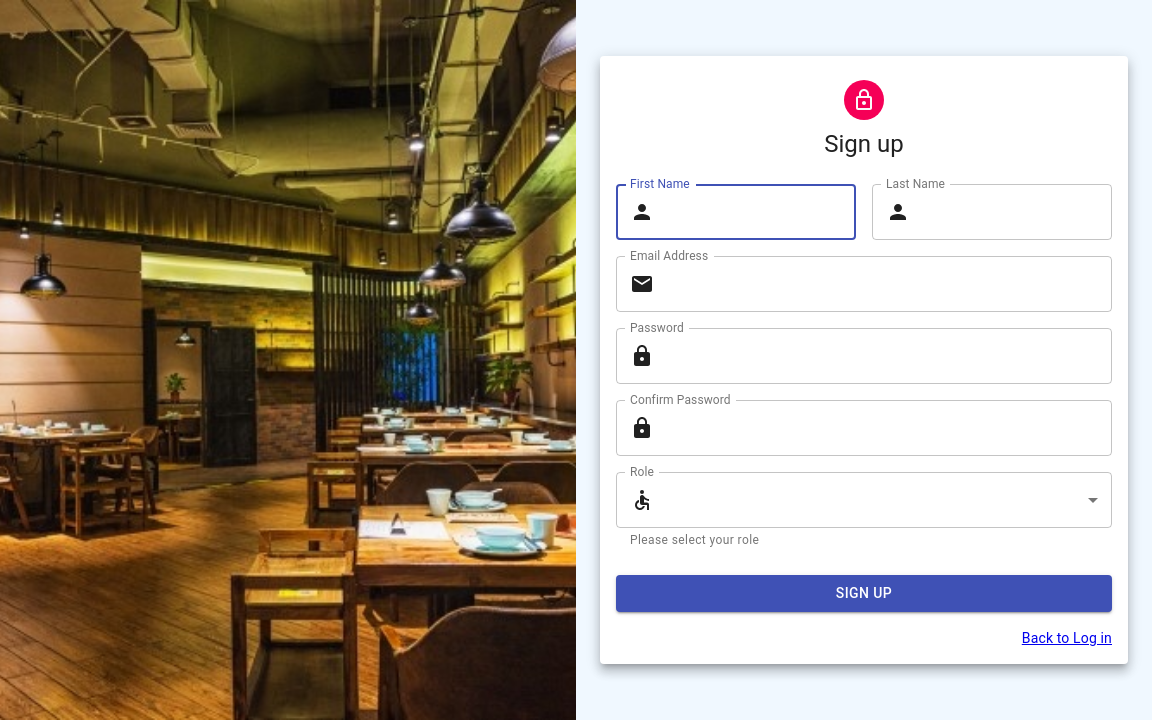
it: When a new user signup › should require input fields
In the field named "email": (887, 284) top-left (662, 256), bottom-right (1112, 312), type "new@test.com"
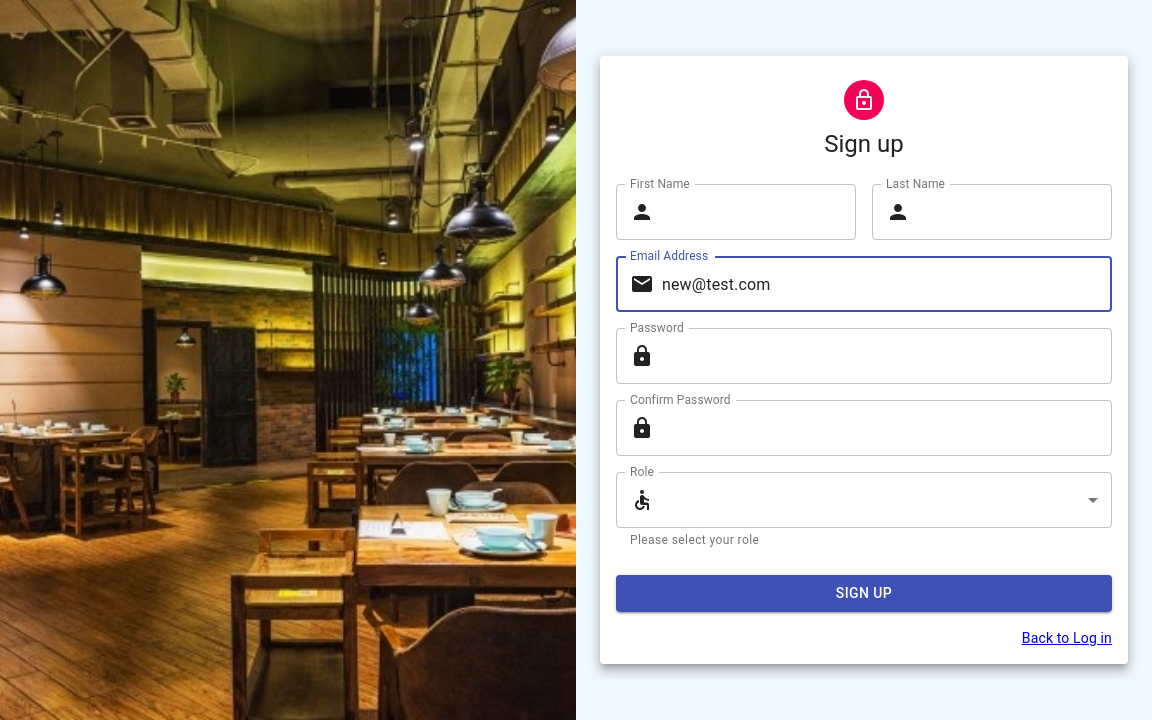
In the password field named "password": (887, 356) top-left (662, 328), bottom-right (1112, 384), type "password"
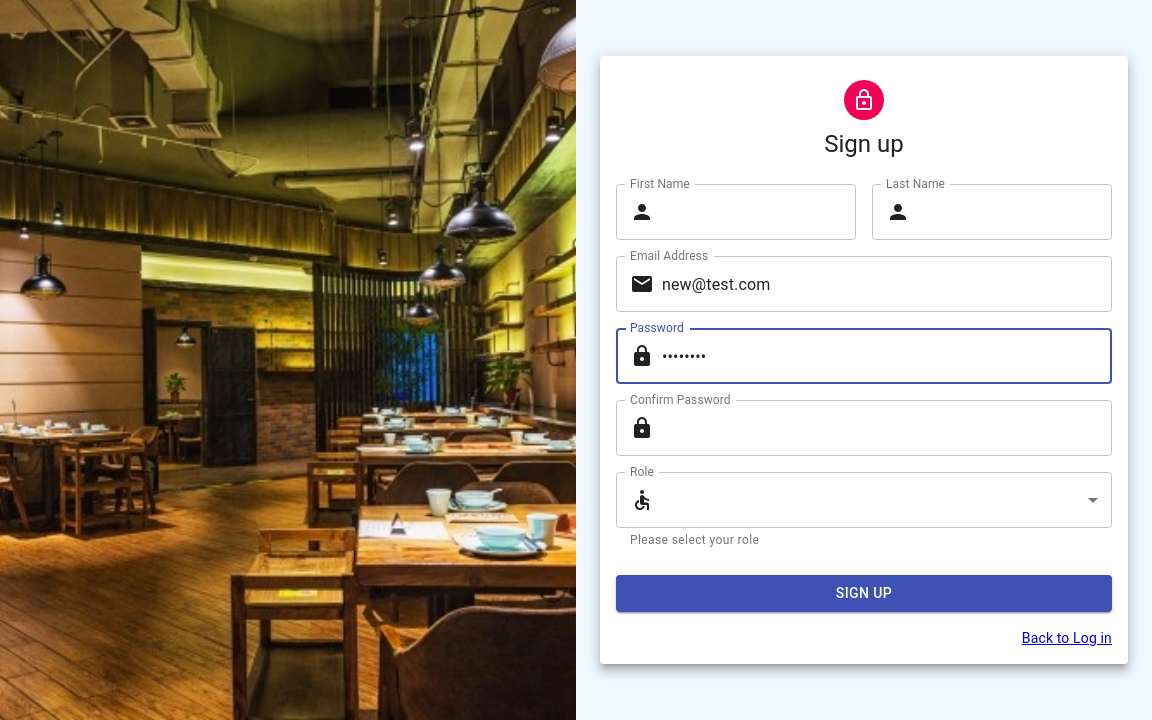
In the password field named "passwordConfirm": (887, 428) top-left (662, 400), bottom-right (1112, 456), type "password"
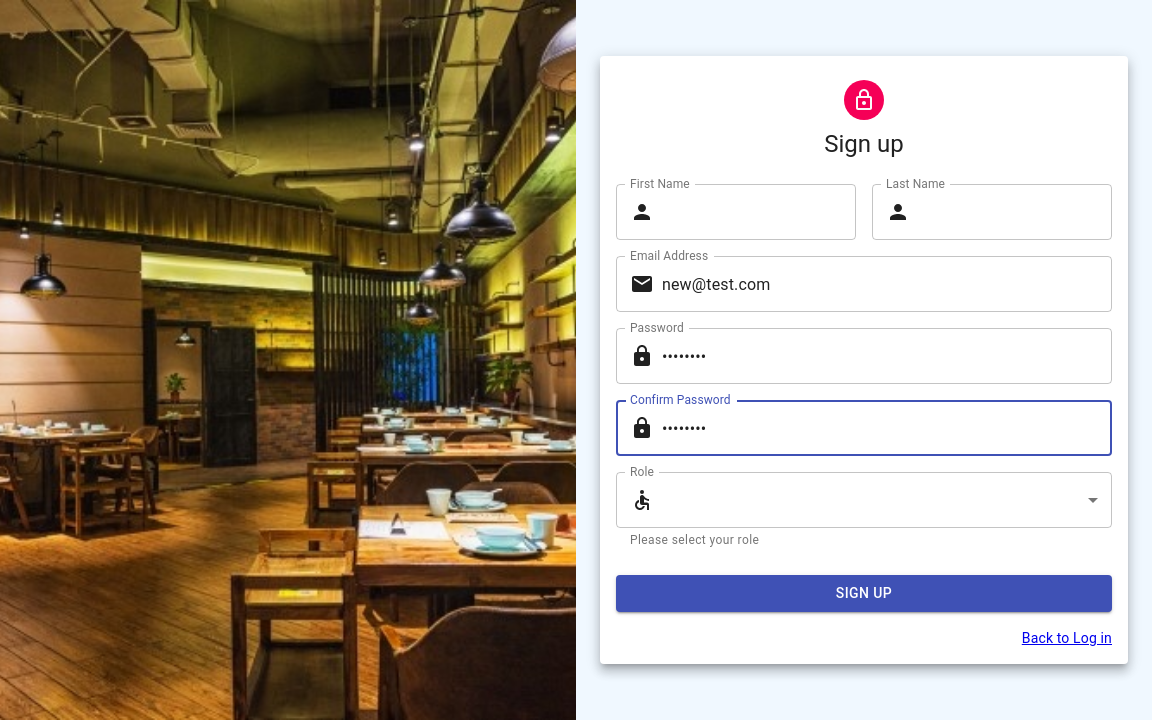
Click the submit button: (864, 594) top-left (616, 575), bottom-right (1112, 612)
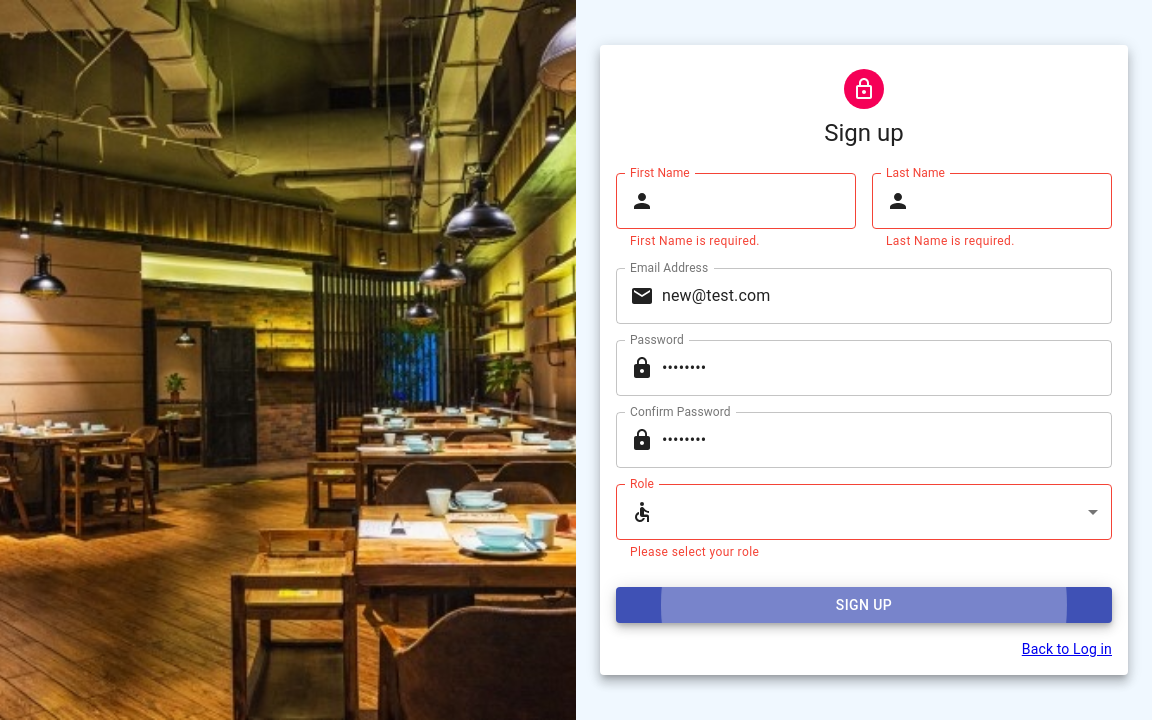
Check: the text "First Name is required" is shown, box top-left (630, 234), bottom-right (760, 248)
